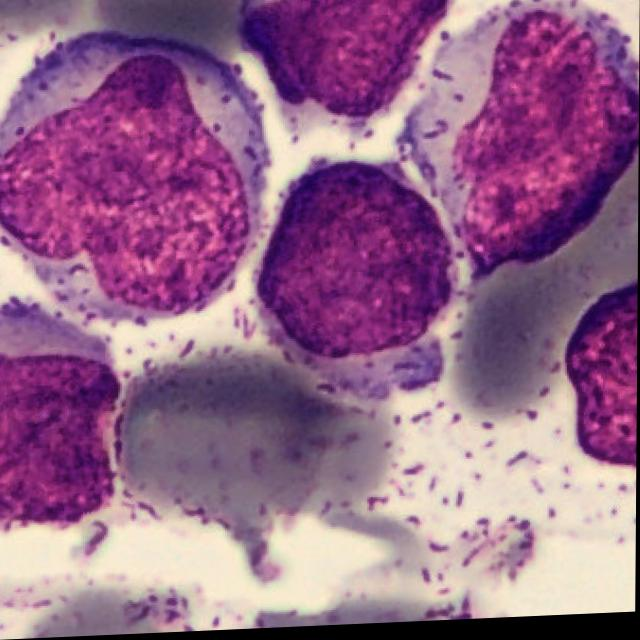Mieloblasto: (0, 33, 254, 321), (406, 2, 640, 283), (252, 162, 460, 407), (0, 300, 119, 524), (246, 0, 449, 113), (564, 285, 638, 473)
